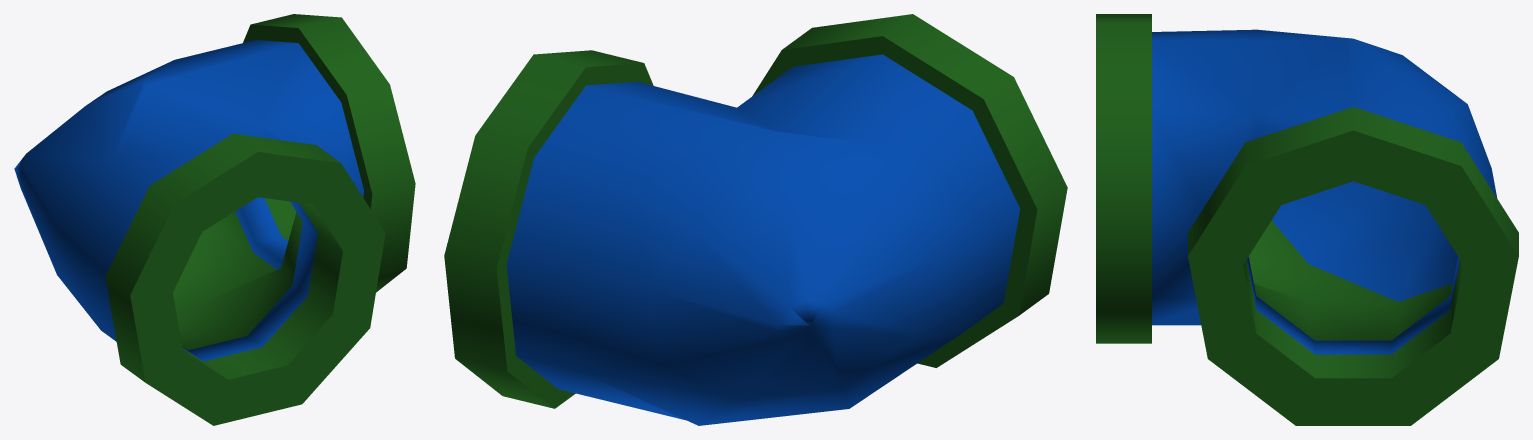
File: 90elbow.fbx
The picture shows the model from 3 angles, left to right: view 1: azimuth 30°, elevation 25°; view 2: azimuth 150°, elevation 25°; view 3: azimuth 270°, elevation 25°; orthographic projection. The views are drawn at different scales.
Parts seen in each view (by area): view 1: 90elbow; view 2: 90elbow; view 3: 90elbow.
Boxes of the visible parts, box(x1,y1,x2,y2) form: 90elbow: box(14, 14, 415, 425); 90elbow: box(444, 14, 1067, 425); 90elbow: box(1096, 14, 1518, 425).
Bounding box in the file's own units: 113 × 87.96 × 113.
